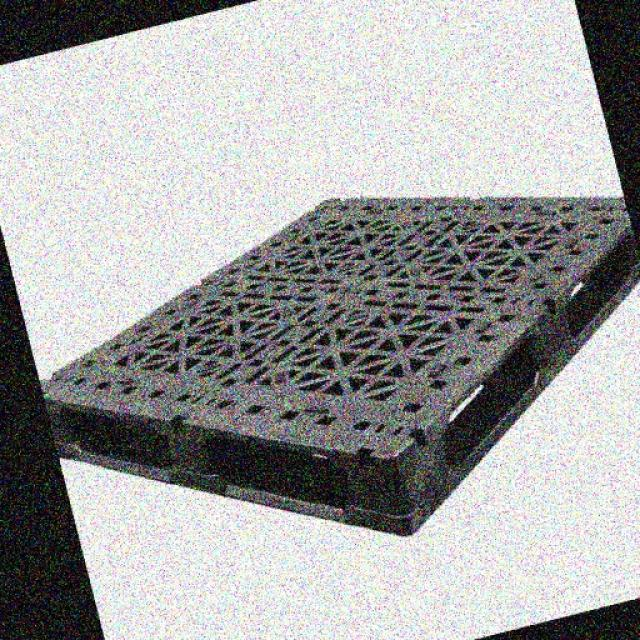non-igps: (33, 183, 640, 543)
